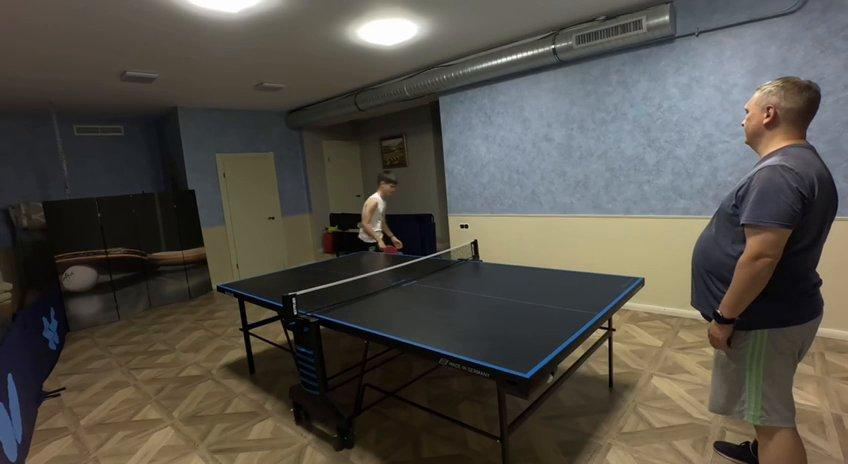Net: (280, 241, 481, 325)
Player1: (359, 173, 402, 249)
Player2: (691, 78, 837, 463)
Table: (220, 250, 640, 376)
